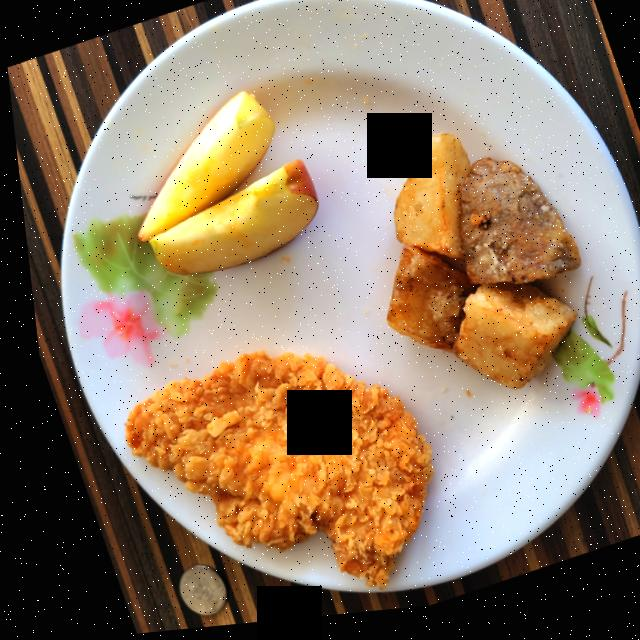apple -sliced-: (131, 95, 312, 277)
coin: (164, 566, 213, 617)
fried chicken cutlet: (115, 354, 420, 593)
fried potato: (378, 141, 572, 397)
